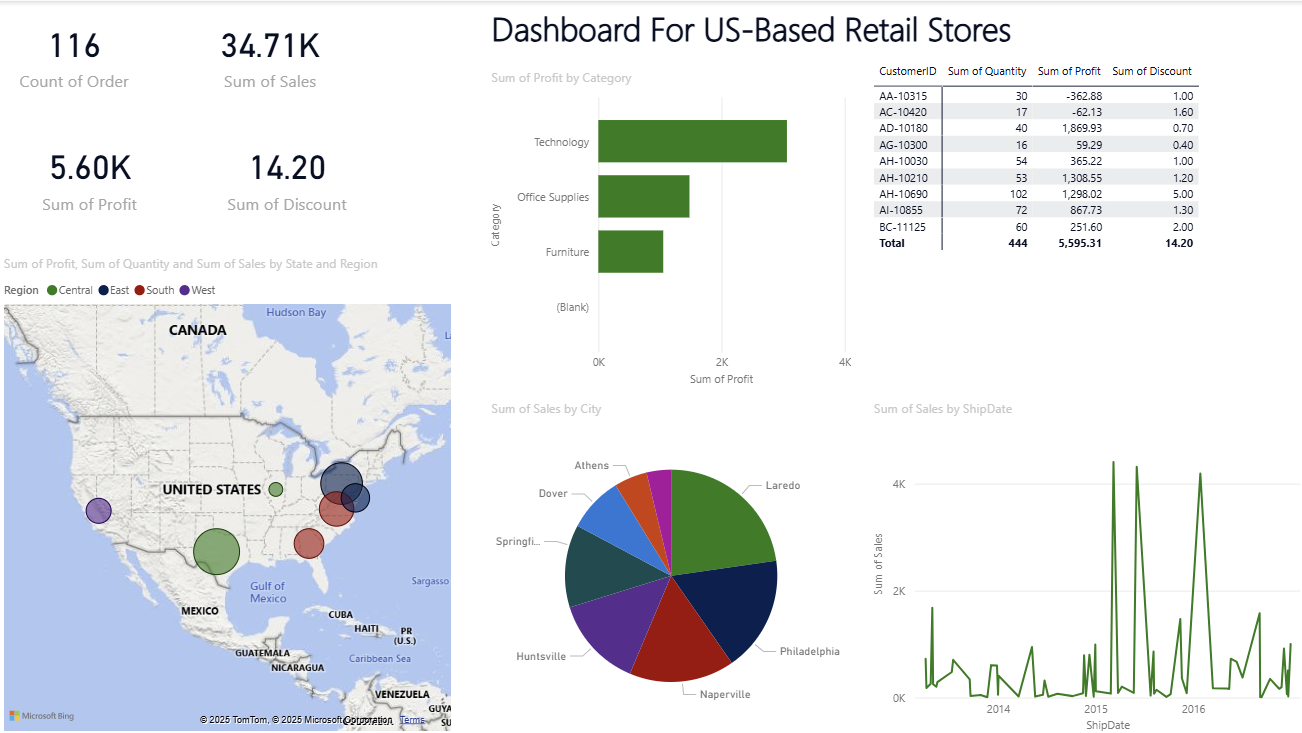

What the dashboard file says about the page in this screenshot:
{"tool":"powerbi","page":{"name":"Page 1","canvas":[1280,720],"ordinal":0},"visuals":[{"type":"lineChart","fields":{"Category":["Order.ShipDate"],"Y":["Sum(Order.Sales)"]},"box":[850.6,390.6,429.7,330.1],"z":0},{"type":"clusteredBarChart","fields":{"Category":["Product-Category.Category"],"Y":["Sum(Order.Profit)"]},"box":[476.3,65.5,361.6,315],"z":1000},{"type":"card","fields":{"Values":["Count(Order)"]},"box":[0,0,147.4,103.3],"z":2000},{"type":"card","fields":{"Values":["Sum(Order.Sales)"]},"box":[160,0,210.4,103.3],"z":3000},{"type":"card","fields":{"Values":["Sum(Order.Profit)"]},"box":[0,119.7,177.7,103.3],"z":4000},{"type":"card","fields":{"Values":["Sum(Order.Discount)"]},"box":[192.8,119.7,177.7,103.3],"z":5000},{"type":"textbox","box":[476.3,0,607.4,55.4],"z":6000},{"type":"pieChart","fields":{"Category":["Customer.City"],"Y":["Sum(Order.Sales)"]},"box":[476.3,390.6,361.6,328.9],"z":7000},{"type":"map","fields":{"Category":["Customer.State"],"Size":["Sum(Order.Profit)"],"Series":["Customer.Region"]},"box":[0,248.8,446.5,470.9],"z":9000},{"type":"pivotTable","fields":{"Rows":["Order.CustomerID"],"Values":["Sum(Order.Quantity)","Sum(Order.Profit)","Sum(Order.Discount)"]},"box":[851.1,55.6,428.9,325.6],"z":10000}]}

Visuals, with their boxes in screenshot pixels (x1, y1, x2, y2), scaled from the page's 1280x720 canvas onto the 1302x733 screenshot:
lineChart - Order.ShipDate x Sum(Order.Sales): 865 398 1301 732
clusteredBarChart - Product-Category.Category x Sum(Order.Profit): 484 67 852 387
card - Count(Order): 0 0 150 105
card - Sum(Order.Sales): 163 0 377 105
card - Sum(Order.Profit): 0 122 181 227
card - Sum(Order.Discount): 196 122 377 227
textbox: 484 0 1102 56
pieChart - Customer.City x Sum(Order.Sales): 484 398 852 732
map - Customer.State x Sum(Order.Profit): 0 253 454 732
pivotTable - Order.CustomerID x Sum(Order.Quantity): 866 57 1301 388
